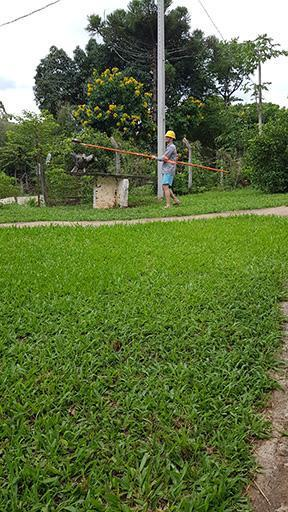helmet: (163, 129, 175, 144)
